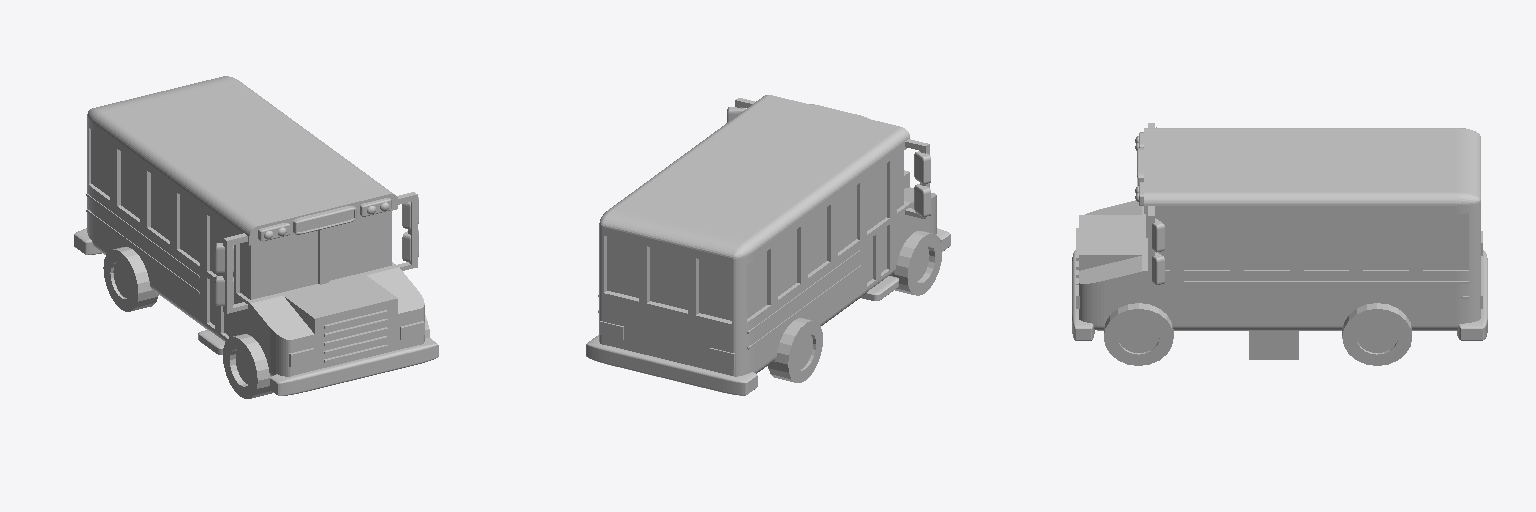
Rendered from buss1.obj.
The picture shows the model from 3 angles: view 1: azimuth 30°, elevation 25°; view 2: azimuth 150°, elevation 25°; view 3: azimuth 270°, elevation 25°; orthographic projection.
Visible parts, largest first — view 1: obj_0; view 2: obj_0; view 3: obj_0, Cube.
Boxes of the visible parts, box(x1,y1,x2,y2) form: obj_0: box(74, 76, 438, 398); obj_0: box(586, 95, 950, 395); obj_0: box(1072, 123, 1487, 365); Cube: box(1249, 331, 1298, 359).
Size of the model in its own units: 9.29 by 8.32 by 16.41.